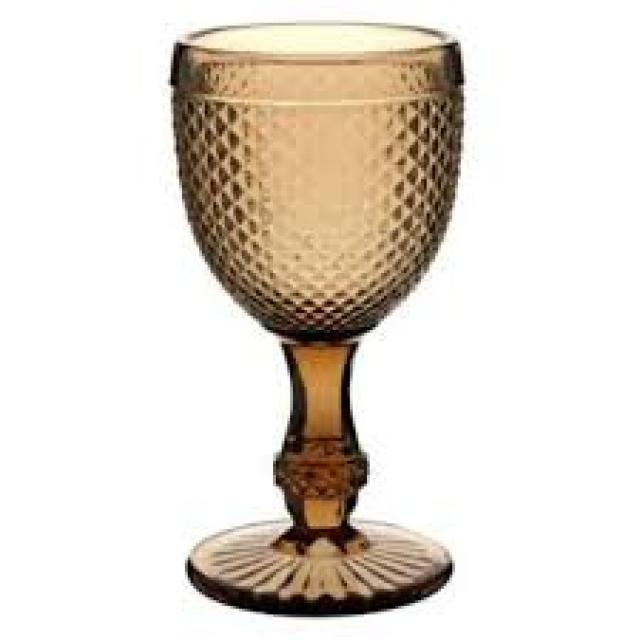glass: (168, 20, 464, 617)
